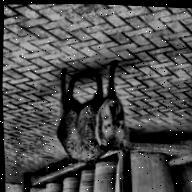boar: (41, 69, 147, 185)
